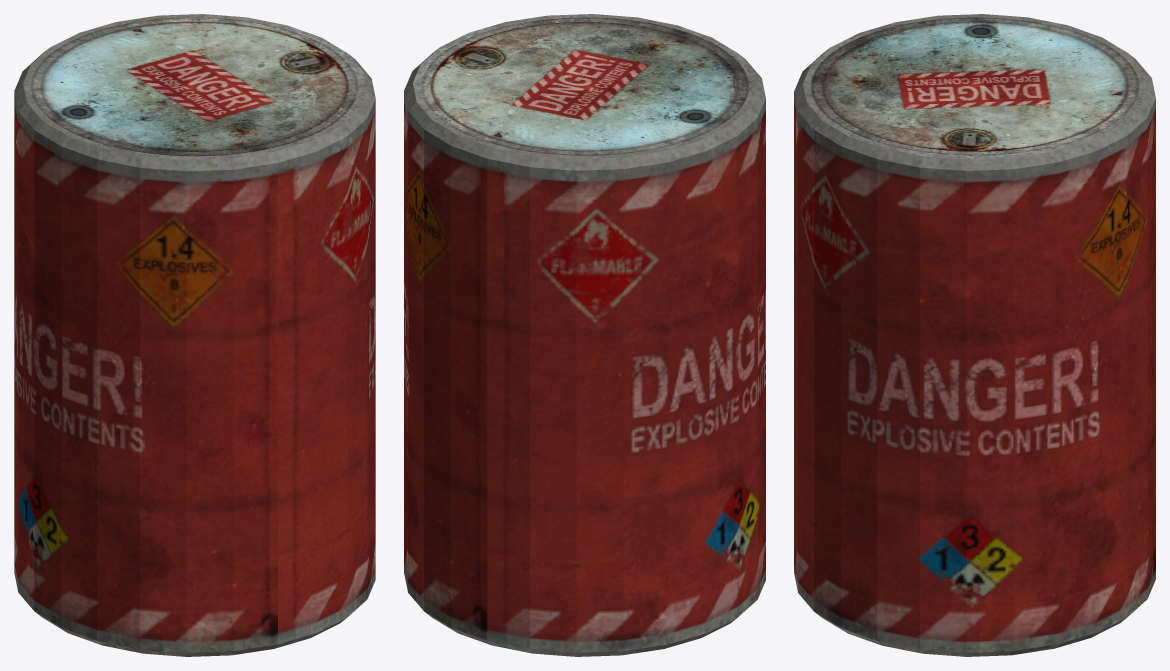
The model's file is Barrel Explosive.obj.
3 renders of one model, left to right at view 1: azimuth 30°, elevation 25°; view 2: azimuth 150°, elevation 25°; view 3: azimuth 270°, elevation 25°, orthographic.
Parts seen in each view (by area): view 1: barrel_barrel_Barrel; view 2: barrel_barrel_Barrel; view 3: barrel_barrel_Barrel.
Boxes of the visible parts, left/top/right/bottom form: barrel_barrel_Barrel: left=14, top=14, right=375, bottom=656; barrel_barrel_Barrel: left=404, top=14, right=765, bottom=656; barrel_barrel_Barrel: left=794, top=14, right=1155, bottom=656.
Size of the model in its own units: 1.37 by 2.08 by 1.37.
